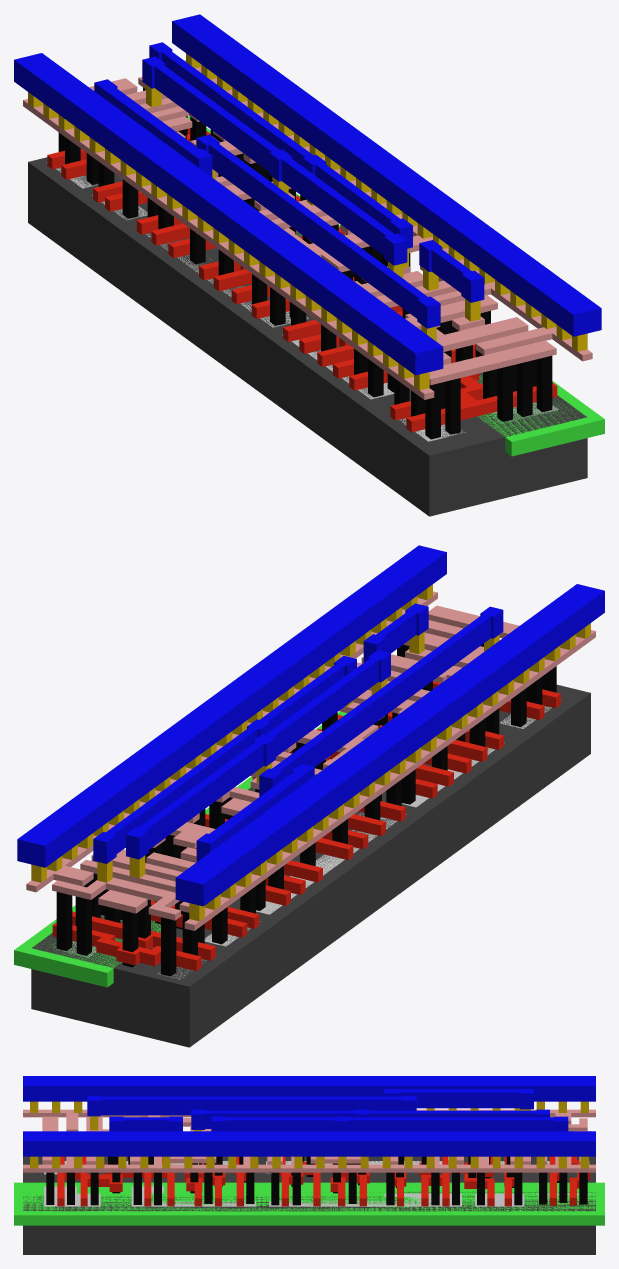
File: sky130_fd_sc_hd__edfxbp_1.obj
3 views of the same model, one above another, from view 1: azimuth 30°, elevation 25°; view 2: azimuth 150°, elevation 25°; view 3: azimuth 270°, elevation 25° (orthographic). The views are drawn at different scales.
Parts seen in each view (by area): view 1: metal1, subs, li, licon, poly, mcon, nwell, diff; view 2: metal1, subs, li, licon, poly, mcon, nwell, diff; view 3: metal1, subs, nwell, li, poly, licon, mcon, tap, diff.
Part boxes in pixels (x1=…): metal1: x1=14, y1=14, x2=601, y2=375; subs: x1=28, y1=157, x2=587, y2=516; li: x1=23, y1=60, x2=592, y2=399; licon: x1=58, y1=87, x2=552, y2=439; poly: x1=47, y1=128, x2=557, y2=432; mcon: x1=28, y1=53, x2=587, y2=390; nwell: x1=187, y1=116, x2=604, y2=456; diff: x1=46, y1=162, x2=465, y2=441; metal1: x1=17, y1=545, x2=604, y2=906; subs: x1=31, y1=684, x2=590, y2=1047; li: x1=26, y1=591, x2=595, y2=930; licon: x1=56, y1=643, x2=556, y2=976; poly: x1=52, y1=681, x2=560, y2=971; mcon: x1=31, y1=584, x2=590, y2=921; nwell: x1=14, y1=711, x2=347, y2=987; diff: x1=157, y1=700, x2=561, y2=979; metal1: x1=23, y1=1076, x2=595, y2=1156; subs: x1=23, y1=1156, x2=595, y2=1254; nwell: x1=14, y1=1182, x2=604, y2=1225; li: x1=23, y1=1109, x2=595, y2=1172; poly: x1=57, y1=1156, x2=590, y2=1206; licon: x1=46, y1=1156, x2=587, y2=1205; mcon: x1=30, y1=1101, x2=588, y2=1168; tap: x1=44, y1=1186, x2=589, y2=1206; diff: x1=44, y1=1161, x2=589, y2=1174.
Size of the model in its own units: 3.2 by 2.74 by 12.34.
